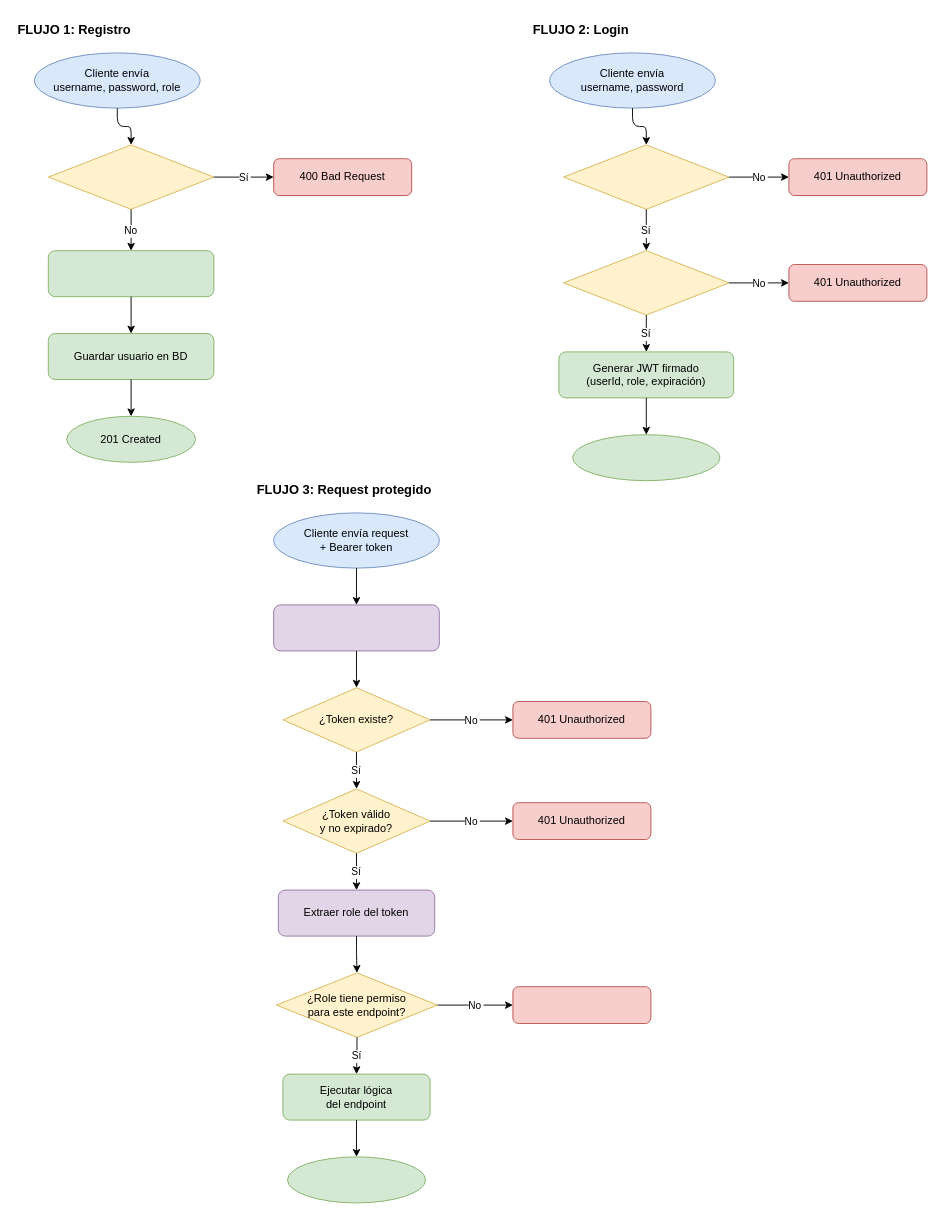
The diagram is 943 pixels wide and 1219 high, and some of its shapes have lost their labels. The centre of each missing label's shape, as x and y in pixels:
"200 OK + respuesta" goes at (356,1179).
"200 OK + token JWT" goes at (646,457).
"403 Forbidden" goes at (581,1005).
"Encriptar password con BCrypt" goes at (130,273).
"Filtro JWT intercepta la petición" goes at (356,627).
"¿Password coincide con el hash?" goes at (646,282).
"¿Username ya existe?" goes at (130,176).
"¿Usuario existe en BD?" goes at (646,176).
